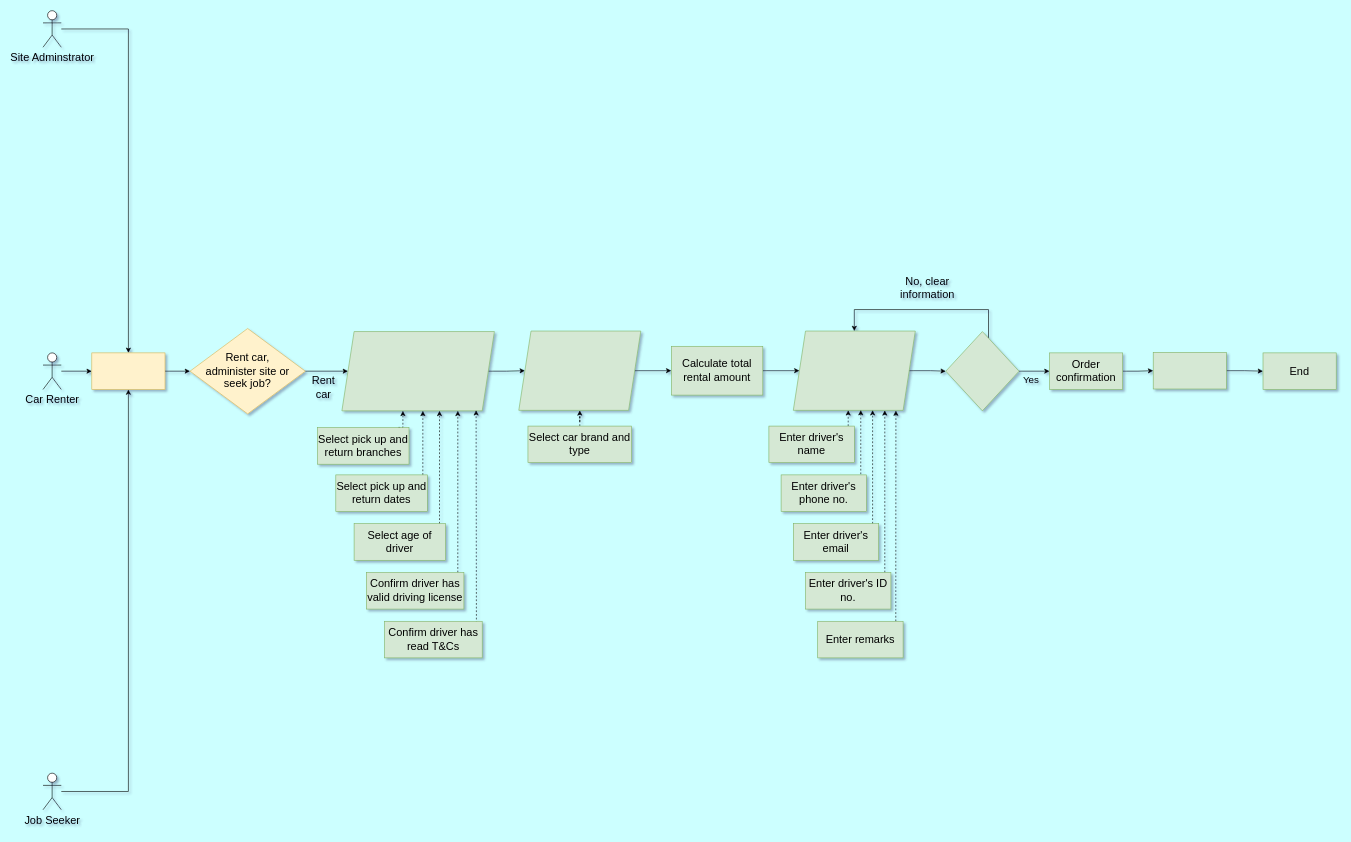
This 1351x842 diagram has some shape labels left out. Here are the shapes that lost their labels. From the top down, the box of each, then its label:
(91, 352, 165, 389): Homepage
(341, 331, 494, 411): Enter information of car driver, pick up and return
(518, 330, 641, 410): Select car to rent
(793, 330, 915, 410): Enter driver's personal particulars
(945, 331, 1019, 411): Submit Order
(1153, 352, 1226, 389): Send confirmation email
